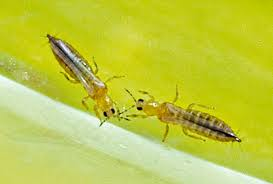Thrips: (35, 29, 129, 128), (118, 82, 245, 153)
